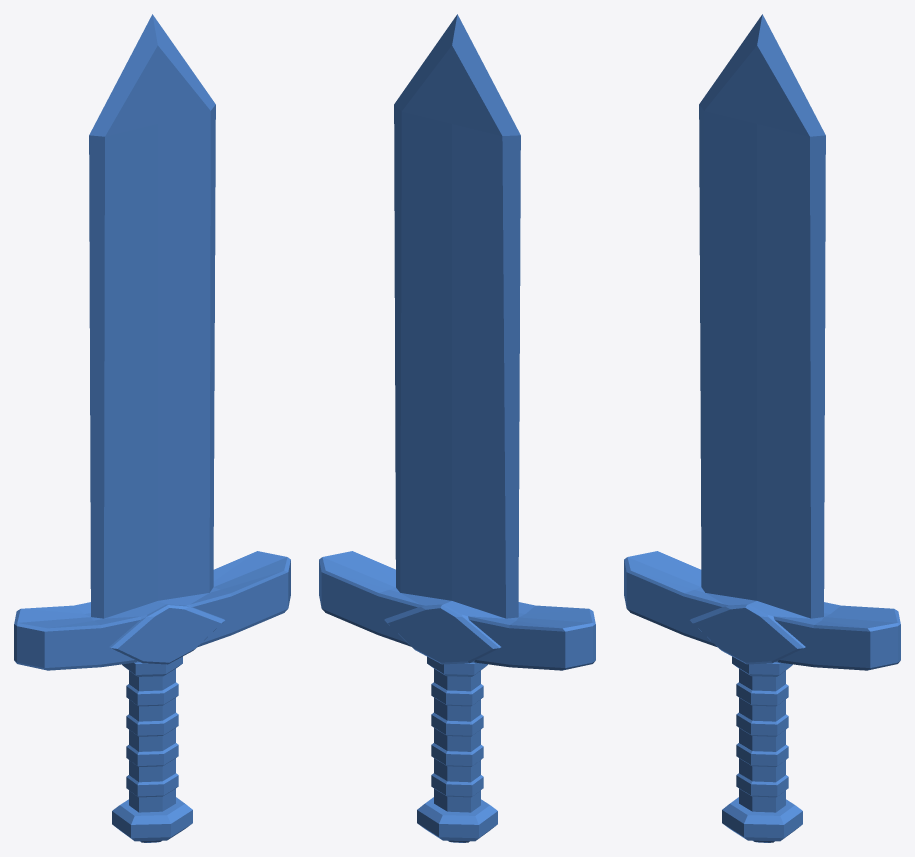
The model's file is Sword.fbx.
The picture shows the model from 3 angles, left to right: view 1: azimuth 30°, elevation 25°; view 2: azimuth 150°, elevation 25°; view 3: azimuth 330°, elevation 25°; orthographic projection.
Parts seen in each view (by area): view 1: Cube.004; view 2: Cube.004; view 3: Cube.004.
Part boxes in pixels (x1,y1,x2,y2): Cube.004: [14, 14, 290, 842]; Cube.004: [319, 14, 595, 842]; Cube.004: [624, 14, 900, 842].
Bounding box in the file's own units: 494 × 1426 × 116.
